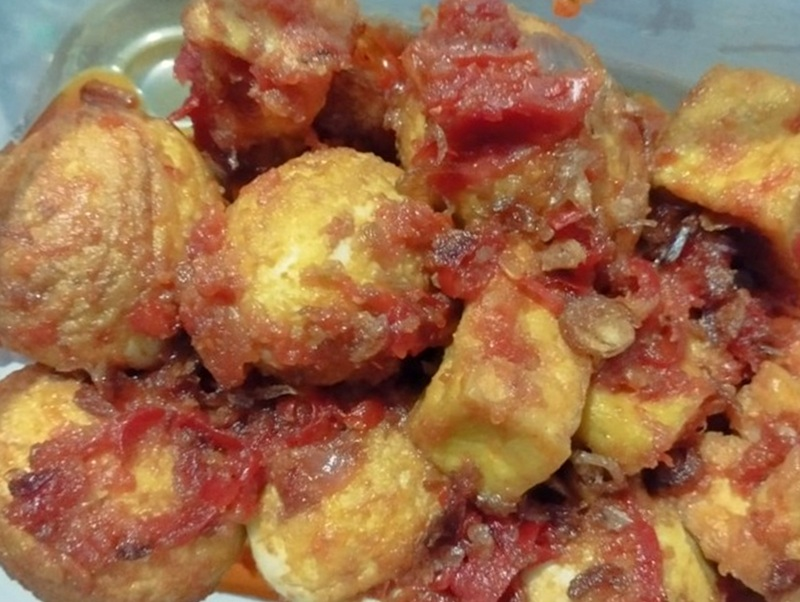Telur Balado: (150, 93, 735, 534)
